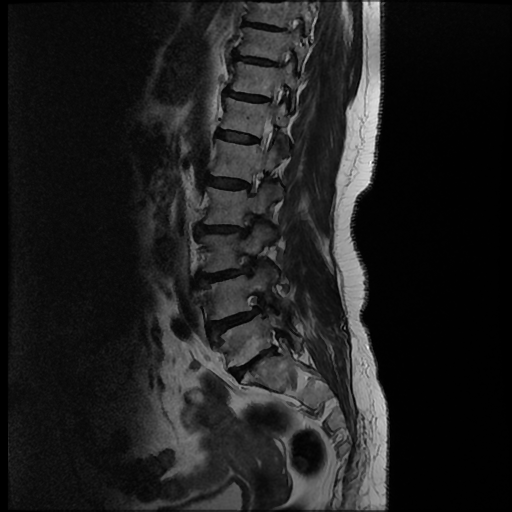RFS0: (238, 158, 269, 201)
RFS3: (237, 288, 279, 327), (231, 247, 270, 285), (237, 207, 270, 245)
